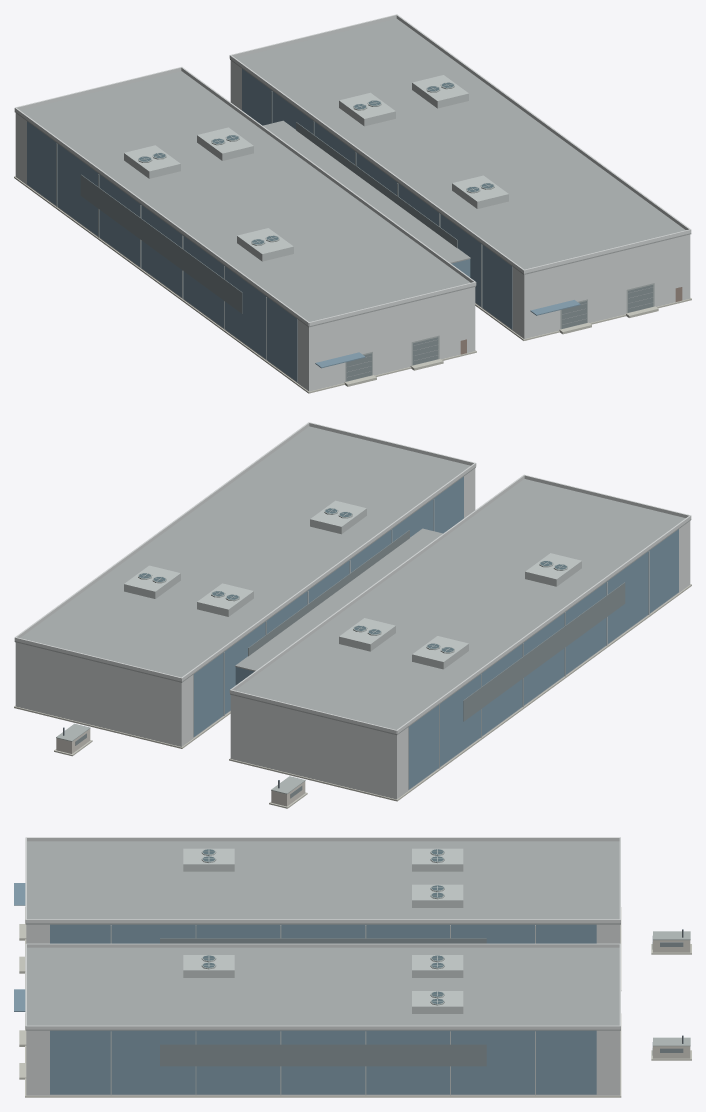
The model's file is dc-hyperscale-campus.glb.
The picture shows the model from 3 angles, top to bottom: view 1: azimuth 30°, elevation 25°; view 2: azimuth 150°, elevation 25°; view 3: azimuth 270°, elevation 25°; orthographic projection.
Visible parts, largest first — view 1: dc-hyperscale-campus; view 2: dc-hyperscale-campus; view 3: dc-hyperscale-campus.
Part boxes in pixels (x1,y1,x2,y2): dc-hyperscale-campus: (14, 14, 691, 393); dc-hyperscale-campus: (14, 422, 691, 808); dc-hyperscale-campus: (14, 837, 691, 1097).
Size of the model in its own units: 78.4 by 14.8 by 119.
